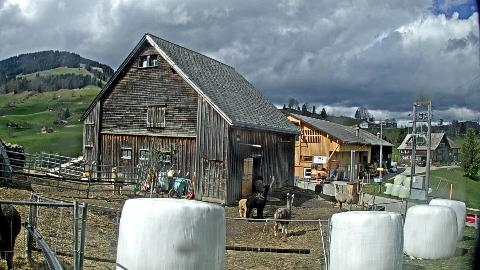car: (388, 165, 398, 173), (418, 161, 426, 167)
sheep: (0, 200, 22, 270), (273, 192, 295, 238), (246, 184, 270, 222), (333, 184, 353, 212), (255, 175, 275, 199), (110, 167, 126, 195), (239, 198, 257, 219), (251, 176, 265, 192), (314, 180, 324, 196)
